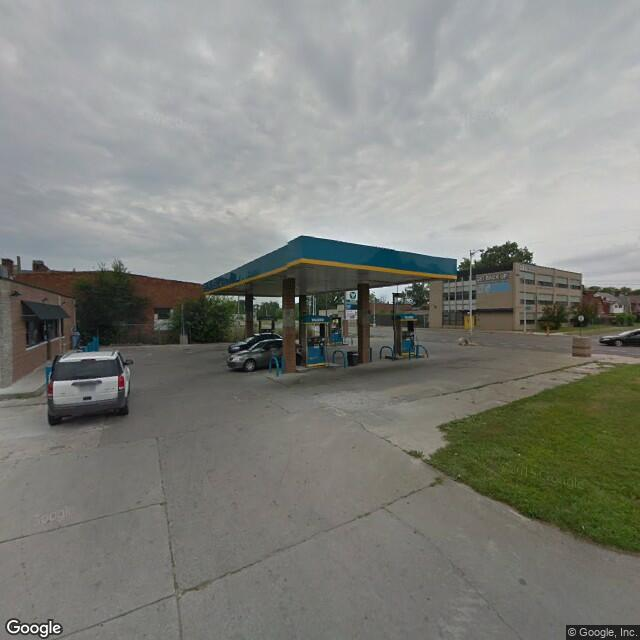litter: (516, 450, 523, 458)
